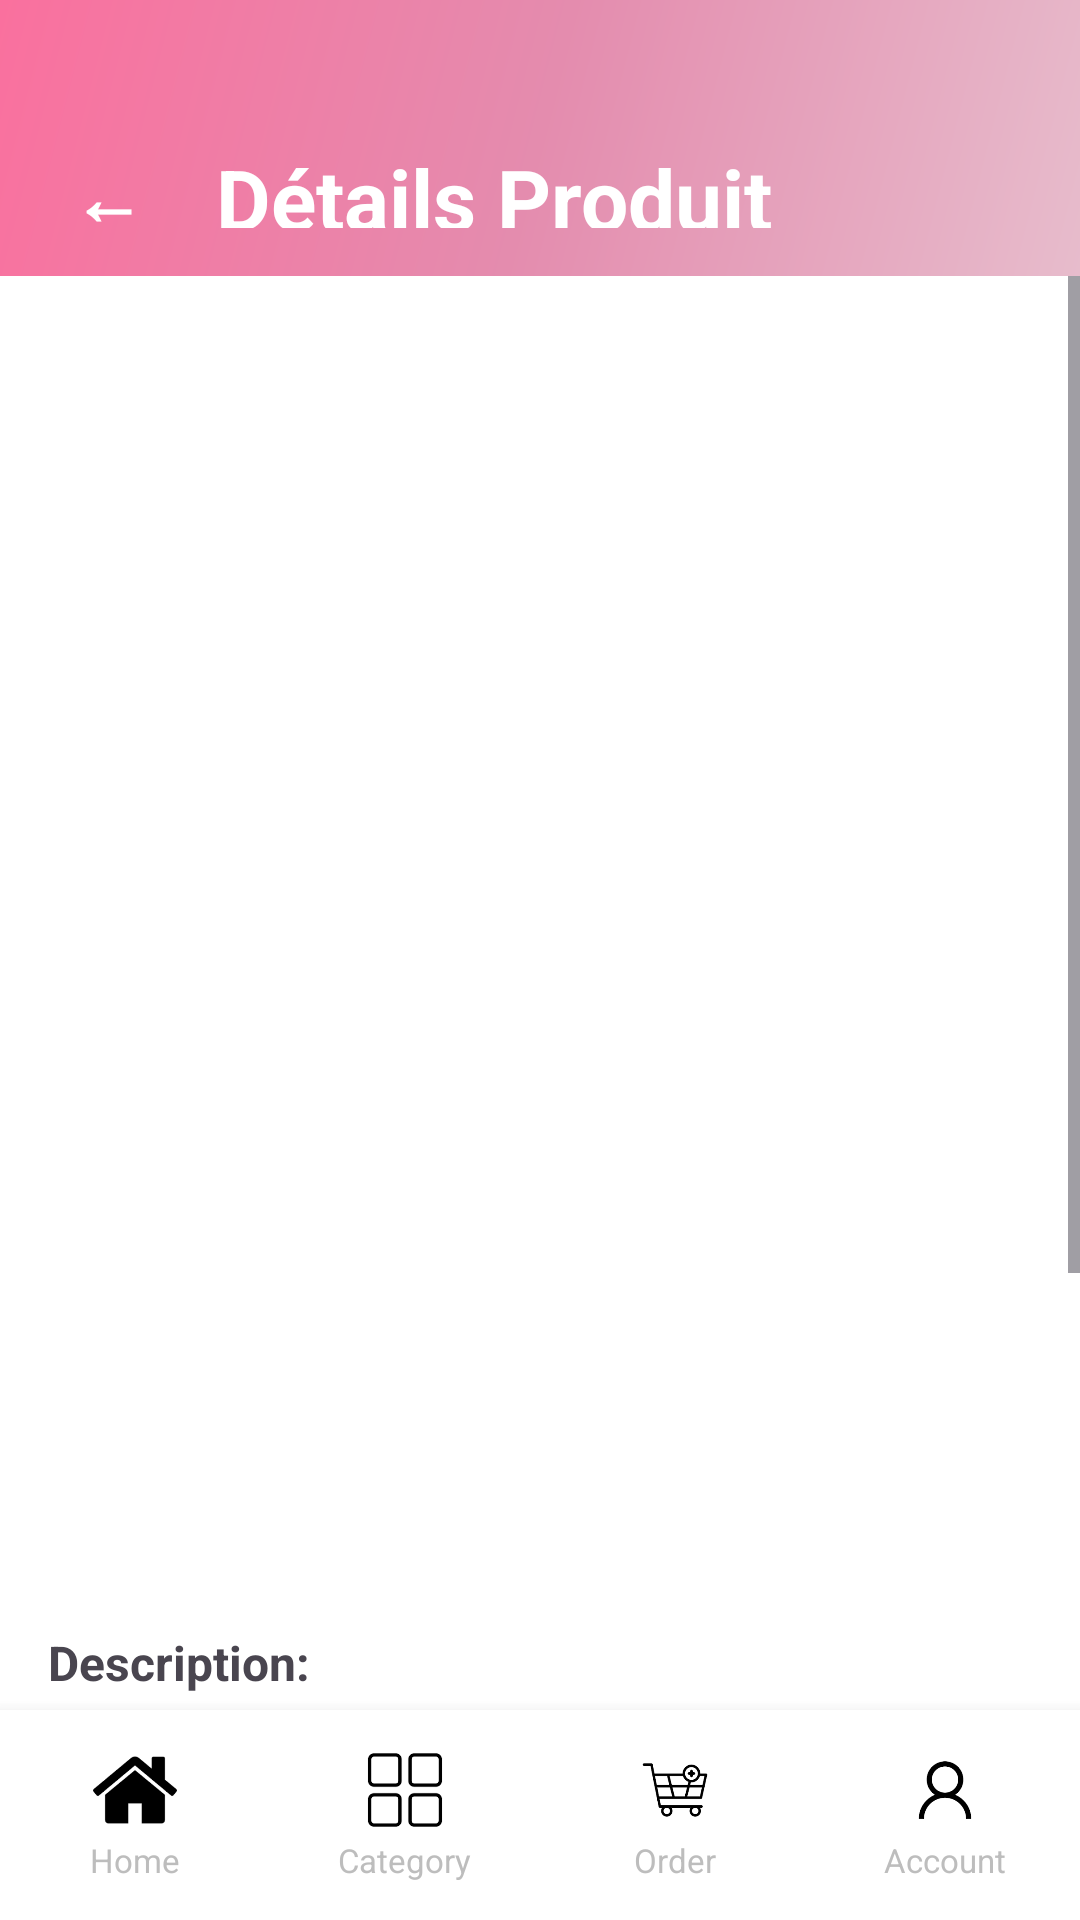

Icons on this 1080px×1920px Android screen, each with its box as (x1, y1, x2, y2):
users: (919, 1761, 971, 1819)
